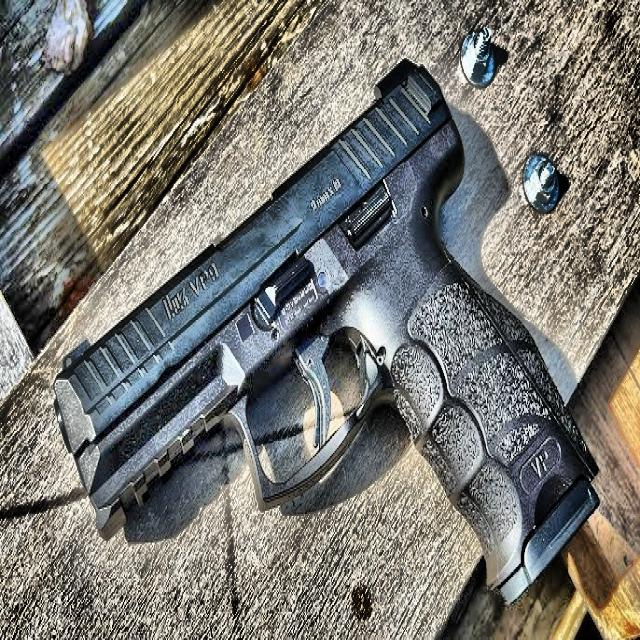HKVP9: (52, 55, 601, 609)
